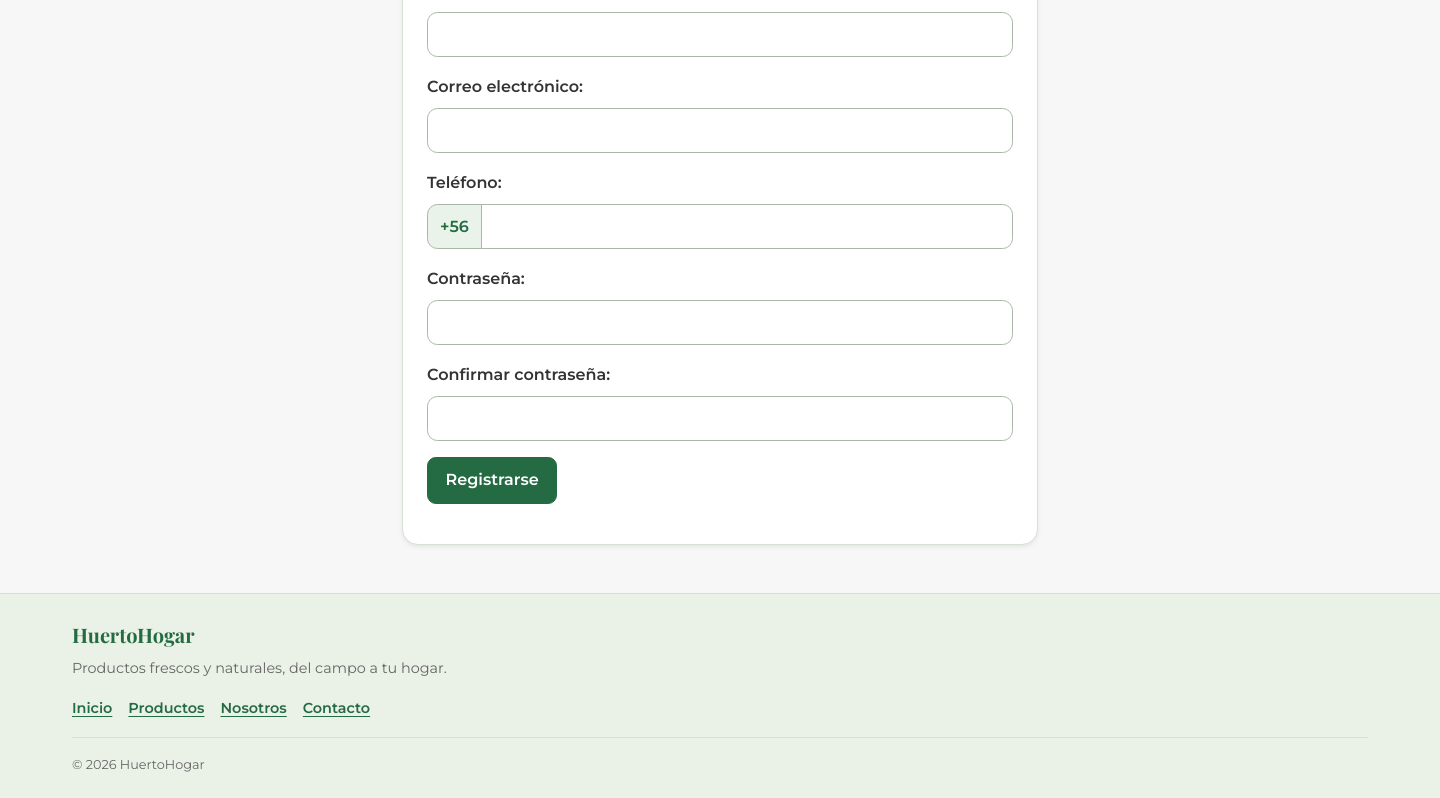
Test: Registro público › exige todos los campos del registro antes de guardar
The image size is (1440, 798).
(page scrolled)
What coordinates should you click on to do the following:
click the button "Registrarse"
I would click on:
 (492, 480)
Its box is [427,457,557,504].
(page scrolled)
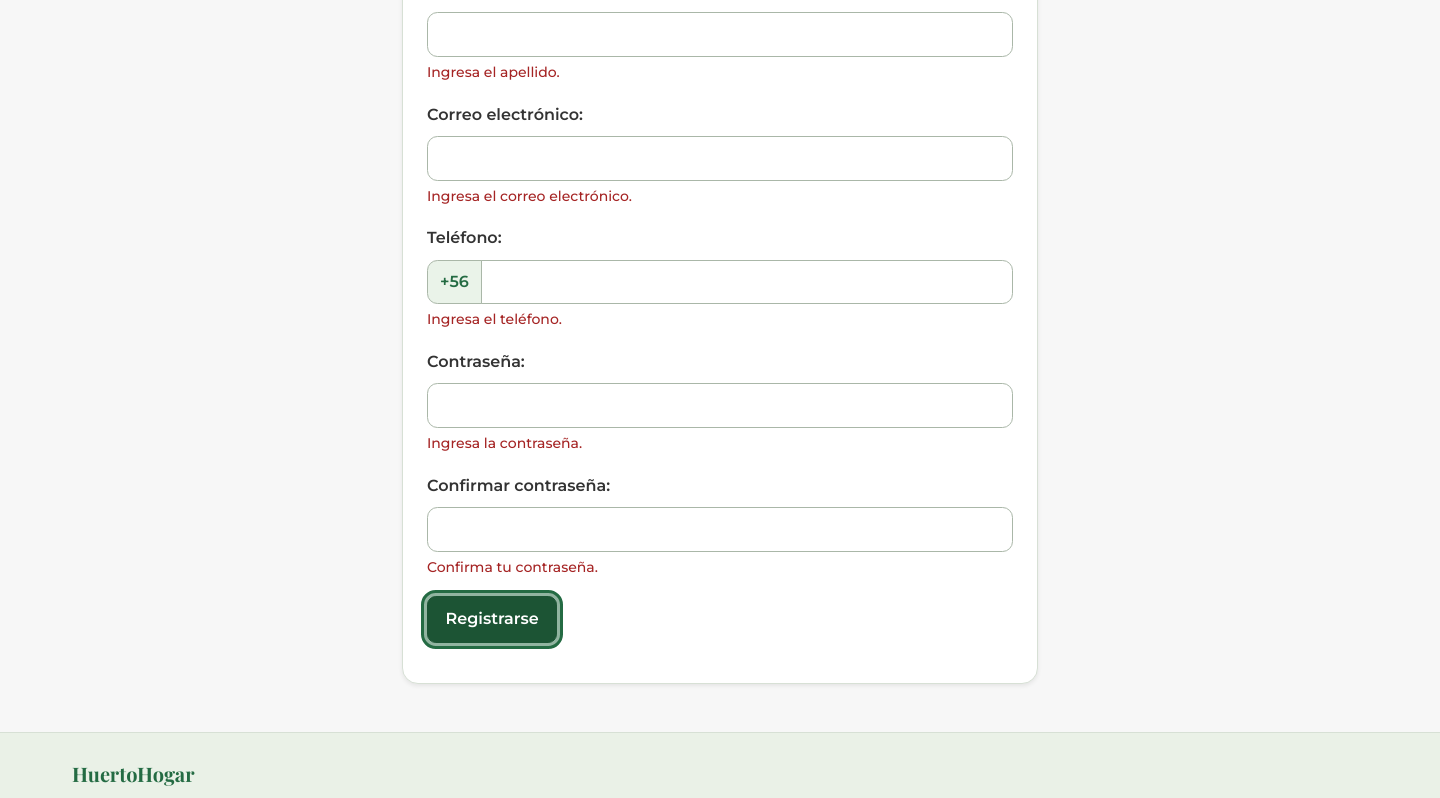
Check: the text "Confirma tu contraseña." is shown, box [427,558,598,576]
